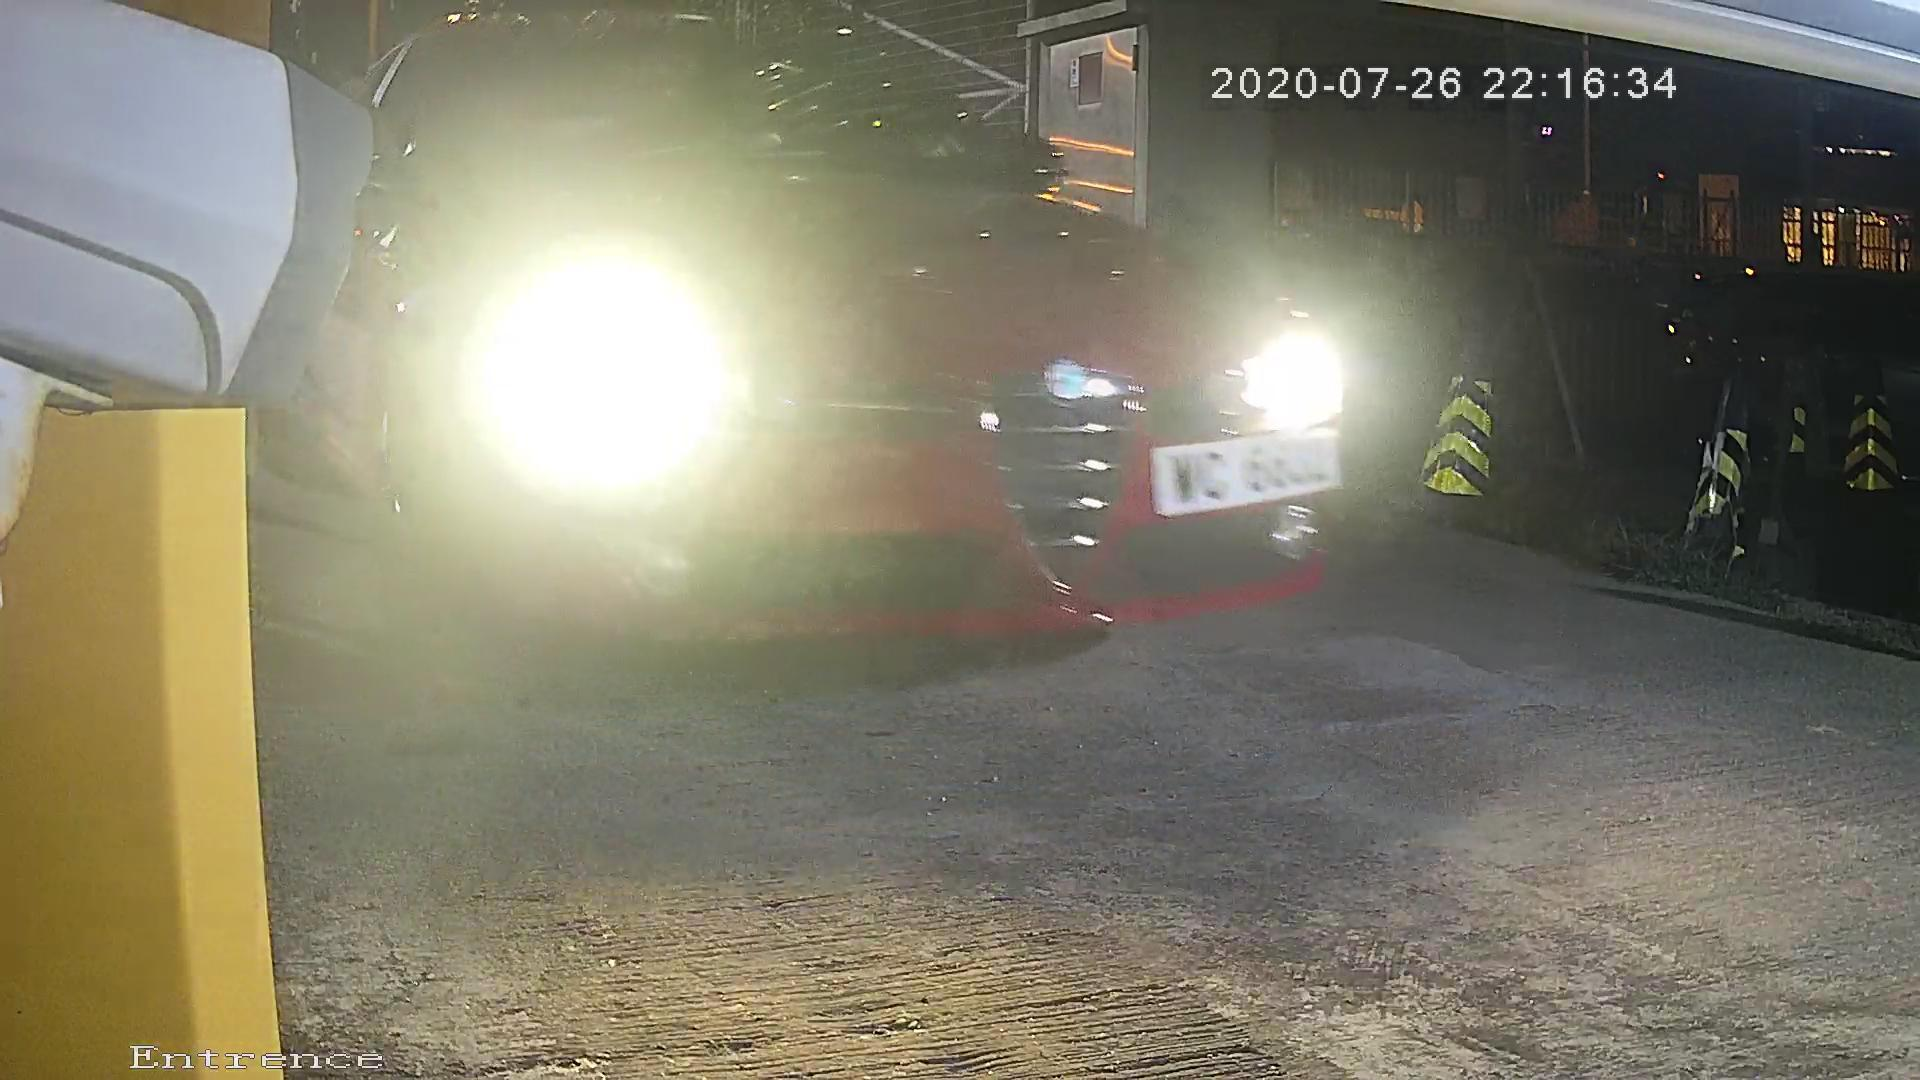Car: (69, 44, 1698, 791)
License Plate: (1143, 408, 1367, 530)
